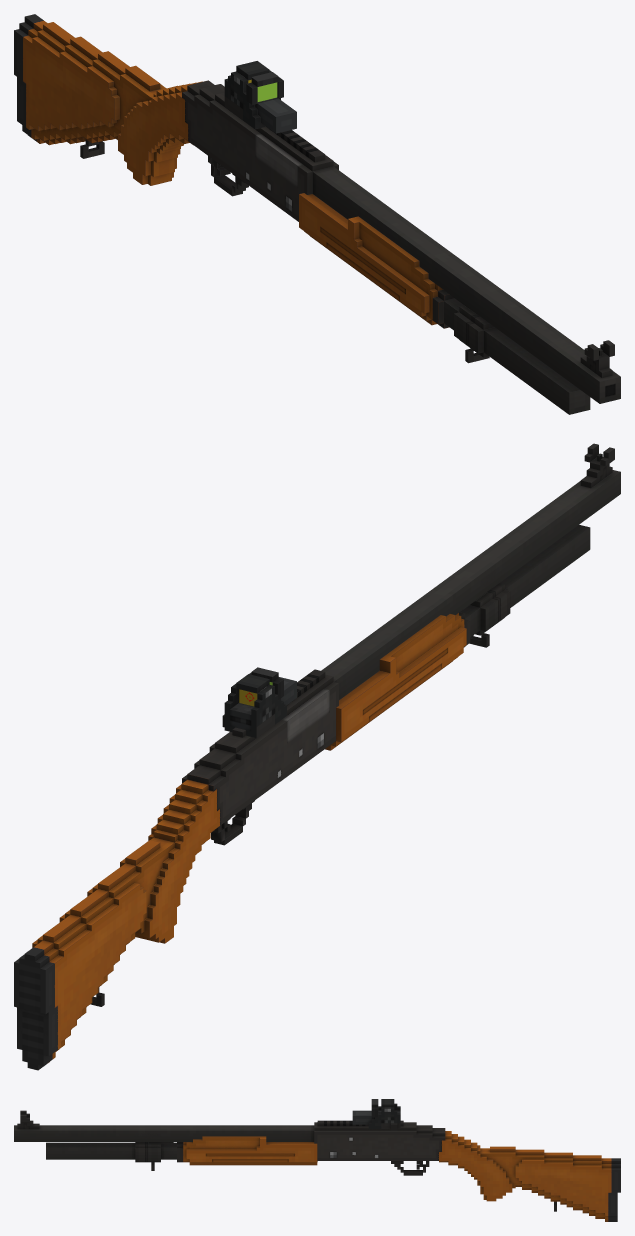
Rendered from RD_BEKAS12M.glb.
The picture shows the model from 3 angles, top to bottom: view 1: azimuth 30°, elevation 25°; view 2: azimuth 150°, elevation 25°; view 3: azimuth 270°, elevation 25°; orthographic projection. The views are drawn at different scales.
Visible parts, largest first — view 1: BEKAS12M, BEKAS12M_FOREND, SCOPE_EOTECH, SCOPE_AIMPOINT; view 2: BEKAS12M, BEKAS12M_FOREND, SCOPE_EOTECH; view 3: BEKAS12M, BEKAS12M_FOREND, SCOPE_EOTECH.
Part boxes in pixels (x1,y1,x2,y2): BEKAS12M: (14, 14, 620, 414); BEKAS12M_FOREND: (299, 193, 454, 328); SCOPE_EOTECH: (224, 61, 296, 133); SCOPE_AIMPOINT: (246, 72, 283, 108); BEKAS12M: (14, 443, 620, 1070); BEKAS12M_FOREND: (325, 612, 470, 750); SCOPE_EOTECH: (224, 674, 296, 737); BEKAS12M: (14, 1110, 620, 1221); BEKAS12M_FOREND: (177, 1136, 317, 1165); SCOPE_EOTECH: (352, 1099, 400, 1128).
Size of the model in its own units: 0.0787 by 0.4034 by 1.87.
5 materials, 5 textured.
